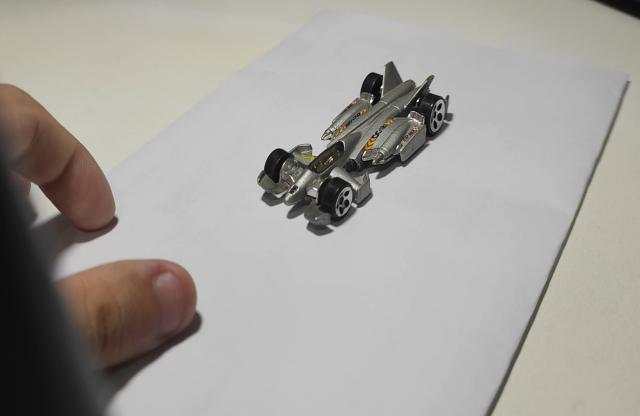05_DC121: (256, 62, 455, 237)
